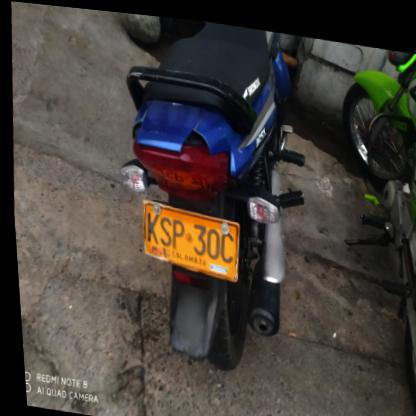placa: (128, 192, 244, 283)
